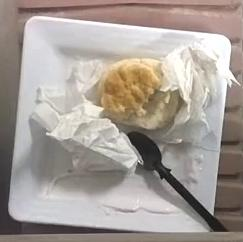biscuit: (100, 58, 183, 129)
